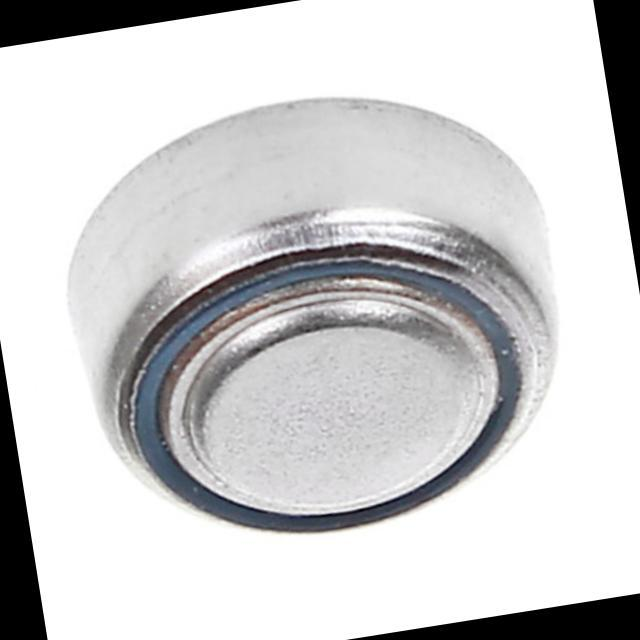COIN: (40, 63, 590, 571)
